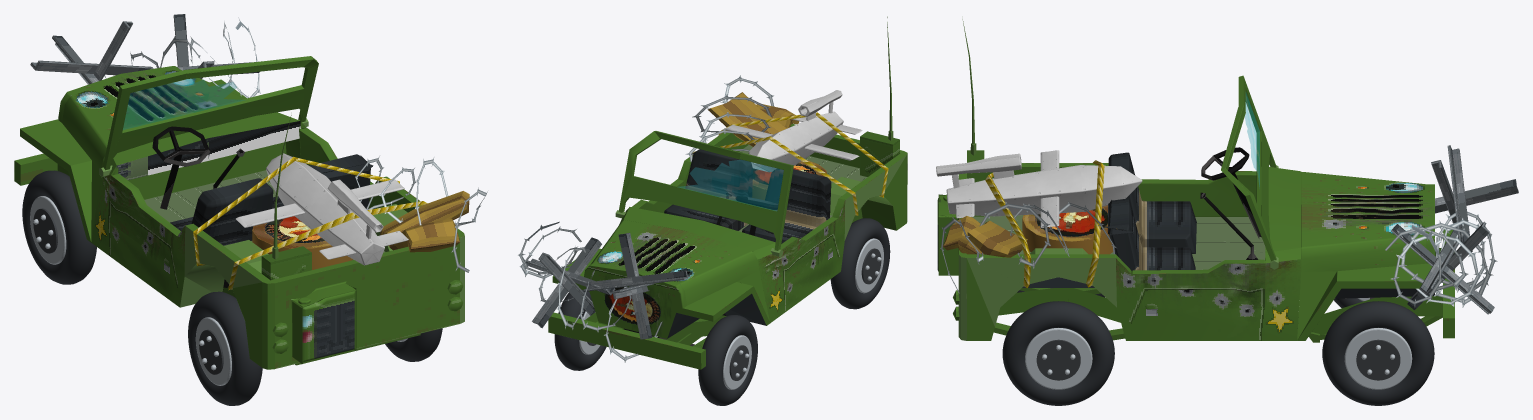
File: car-gramr_v.glb
The picture shows the model from 3 angles, left to right: view 1: azimuth 30°, elevation 25°; view 2: azimuth 150°, elevation 25°; view 3: azimuth 270°, elevation 25°; orthographic projection. The views are drawn at different scales.
Parts seen in each view (by area): view 1: gramR_vShape.002, gramR_vShape.011, gramR_vShape.010, gramR_vShape.009, HoodRotShape.016, TrunkRotShape.014, Rounded tire.110, Rounded tire.111, gramR_vShape.003, gramR_vShape.013, gramR_vShape.006, DoorDRotShape.076 (+12 smaller); view 2: gramR_vShape.002, HoodRotShape.016, gramR_vShape.010, gramR_vShape.009, gramR_vShape.006, gramR_vShape.011, gramR_vShape.007, gramR_vShape.013, gramR_vShape.003, Rounded tire.111, gramR_vShape.001, Rounded tire.110 (+10 smaller); view 3: gramR_vShape.002, HoodRotShape.016, gramR_vShape.011, gramR_vShape.004, gramR_vShape.010, Rounded tire.109, Rounded tire.108, gramR_vShape.006, DoorPRotShape.083, gramR_vShape.001, DoorDRotShape.075, gramR_vShape.008 (+11 smaller).
Boxes of the visible parts, x1=… form: gramR_vShape.002: x1=14, y1=79, x2=469, y2=369; gramR_vShape.011: x1=236, y1=153, x2=408, y2=265; gramR_vShape.010: x1=116, y1=121, x2=373, y2=245; gramR_vShape.009: x1=102, y1=56, x2=318, y2=170; HoodRotShape.016: x1=62, y1=69, x2=244, y2=169; TrunkRotShape.014: x1=291, y1=281, x2=356, y2=363; Rounded tire.110: x1=188, y1=291, x2=262, y2=405; Rounded tire.111: x1=22, y1=170, x2=96, y2=284; gramR_vShape.003: x1=91, y1=160, x2=185, y2=307; gramR_vShape.013: x1=123, y1=78, x2=244, y2=129; gramR_vShape.006: x1=30, y1=14, x2=259, y2=84; DoorDRotShape.076: x1=108, y1=175, x2=177, y2=266; gramR_vShape.002: x1=548, y1=16, x2=907, y2=369; HoodRotShape.016: x1=590, y1=220, x2=759, y2=305; gramR_vShape.010: x1=664, y1=149, x2=831, y2=243; gramR_vShape.009: x1=618, y1=131, x2=793, y2=250; gramR_vShape.006: x1=526, y1=232, x2=688, y2=339; gramR_vShape.011: x1=725, y1=90, x2=862, y2=172; gramR_vShape.007: x1=584, y1=263, x2=686, y2=338; gramR_vShape.013: x1=678, y1=160, x2=783, y2=210; gramR_vShape.003: x1=757, y1=200, x2=845, y2=322; Rounded tire.111: x1=698, y1=315, x2=757, y2=405; gramR_vShape.001: x1=518, y1=75, x2=774, y2=362; Rounded tire.110: x1=830, y1=218, x2=890, y2=309; gramR_vShape.002: x1=943, y1=19, x2=1454, y2=342; HoodRotShape.016: x1=1301, y1=172, x2=1425, y2=271; gramR_vShape.011: x1=936, y1=150, x2=1142, y2=227; gramR_vShape.004: x1=1116, y1=258, x2=1301, y2=340; gramR_vShape.010: x1=1104, y1=152, x2=1196, y2=270; Rounded tire.109: x1=1322, y1=301, x2=1434, y2=405; Rounded tire.108: x1=1002, y1=301, x2=1114, y2=405; gramR_vShape.006: x1=1391, y1=145, x2=1518, y2=314; DoorPRotShape.083: x1=1131, y1=263, x2=1265, y2=308; gramR_vShape.001: x1=940, y1=201, x2=1497, y2=307; DoorDRotShape.075: x1=1138, y1=171, x2=1256, y2=216; gramR_vShape.008: x1=971, y1=215, x2=1265, y2=269.
Bounding box in the file's own units: 2.19 × 2.73 × 4.6.
Materials: 17 (14 with a texture image).
